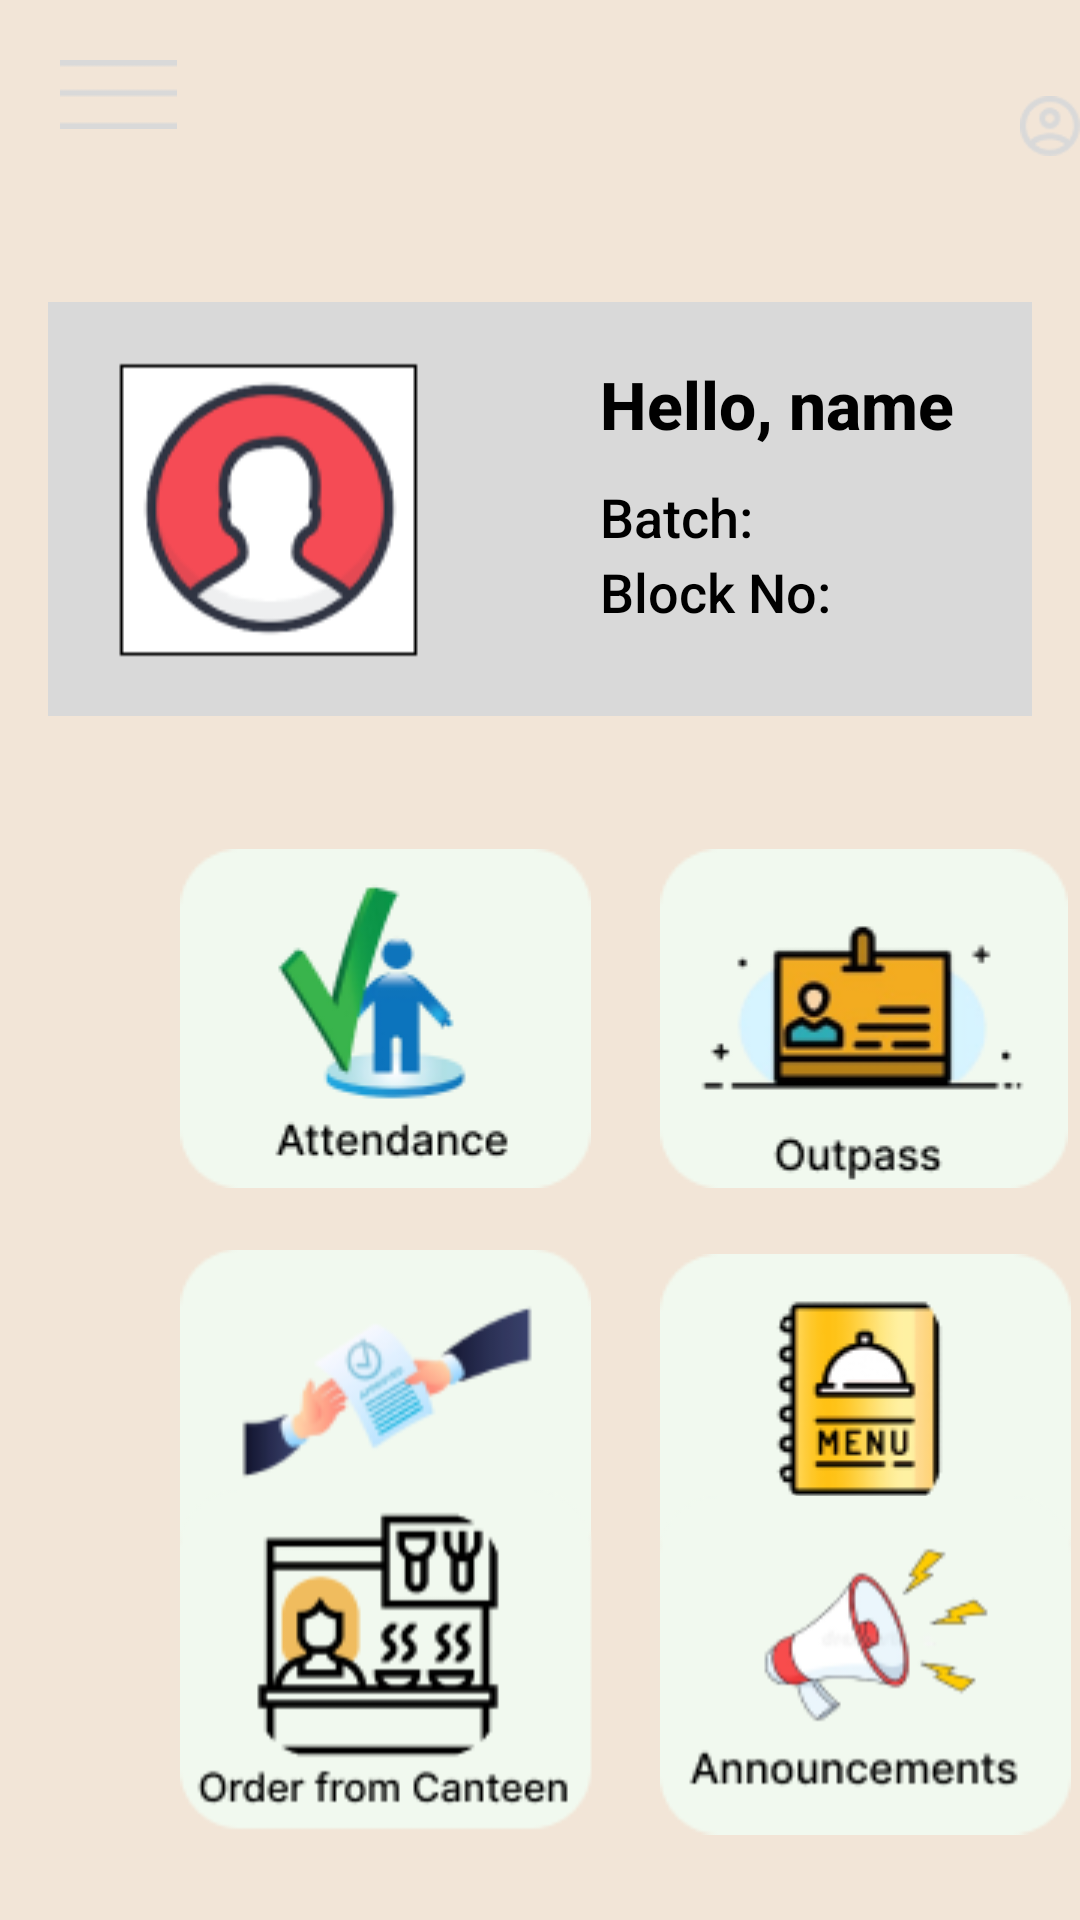

Named icons in this screenshot (1080w x 1920h) and their centers, point (x, y):
bar: point (118, 94)
profile: point (1048, 124)
